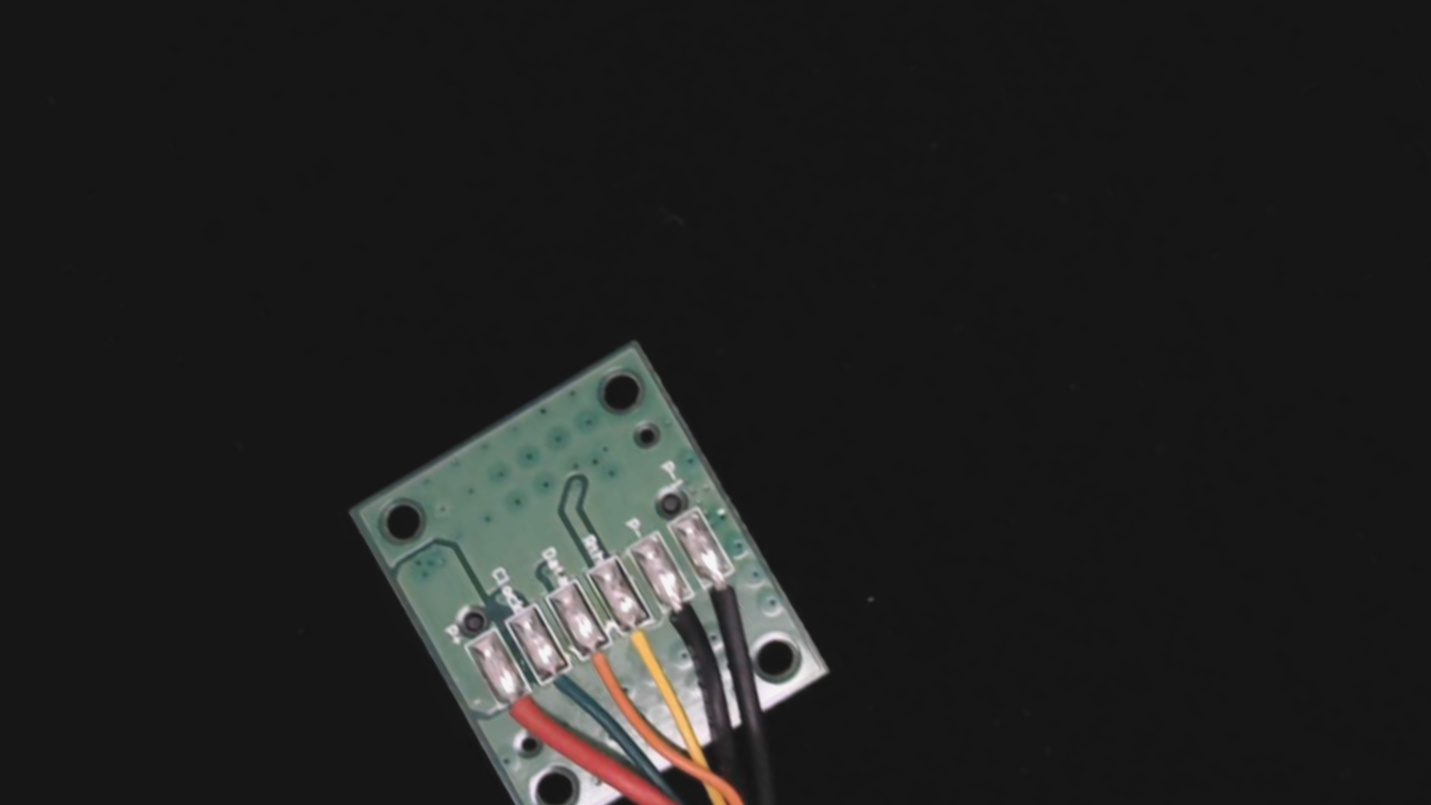Black: (647, 574, 724, 657)
Black1: (687, 547, 769, 638)
Green: (528, 650, 597, 727)
Orange: (565, 623, 641, 707)
Red: (482, 669, 568, 763)
Yellow: (604, 597, 692, 696)
